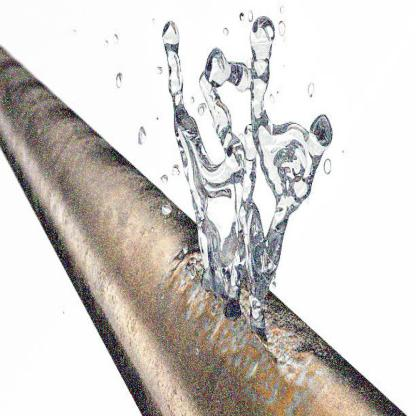burst: (162, 250, 305, 357)
